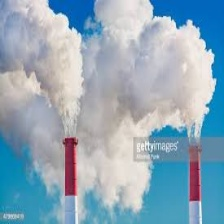smoke: (1, 1, 211, 142)
